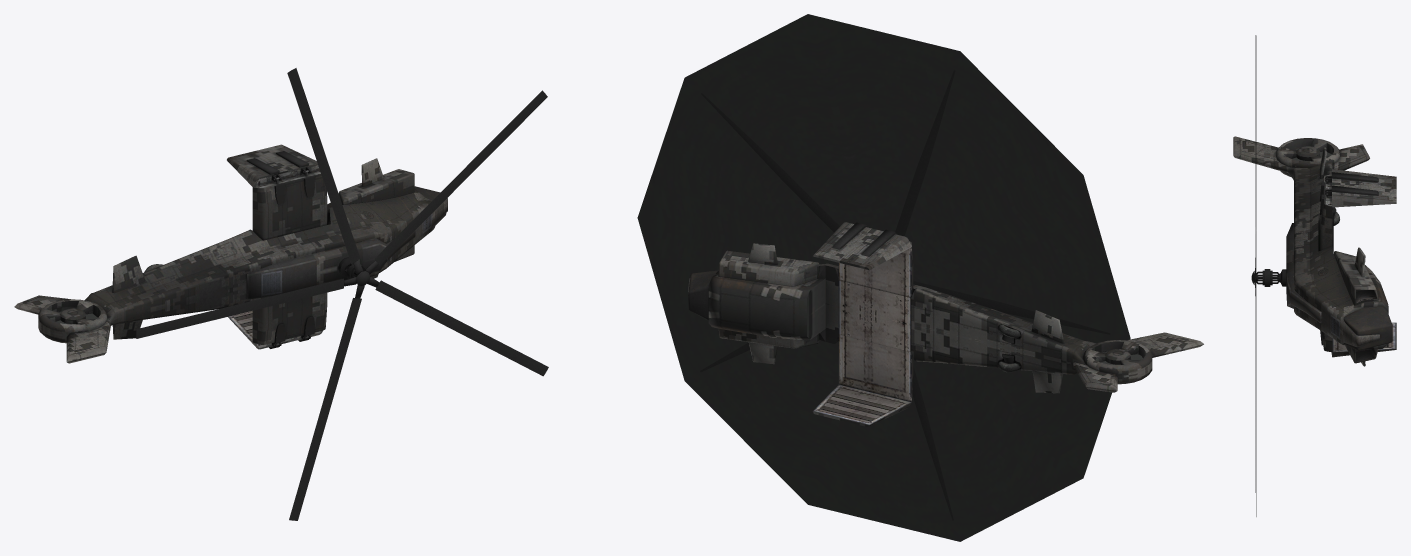
The model's file is veh_t6_drone_supply_alt_LOD0.obj.
3 renders of one model, left to right at view 1: azimuth 30°, elevation 25°; view 2: azimuth 150°, elevation 25°; view 3: azimuth 270°, elevation 25°, orthographic. The views are drawn at different scales.
Parts seen in each view (by area): view 1: mtl_veh_t6_drone_supply_alt; view 2: mtl_veh_t6_drone_supply_blade_spin, mtl_veh_t6_drone_supply_alt; view 3: mtl_veh_t6_drone_supply_alt.
Part boxes in pixels (x1,y1,x2,y2): mtl_veh_t6_drone_supply_alt: (14, 68, 548, 520); mtl_veh_t6_drone_supply_blade_spin: (637, 14, 1142, 541); mtl_veh_t6_drone_supply_alt: (688, 70, 1203, 520); mtl_veh_t6_drone_supply_alt: (1233, 35, 1396, 492).
Bounding box in the file's own units: 698 × 590 × 191.
